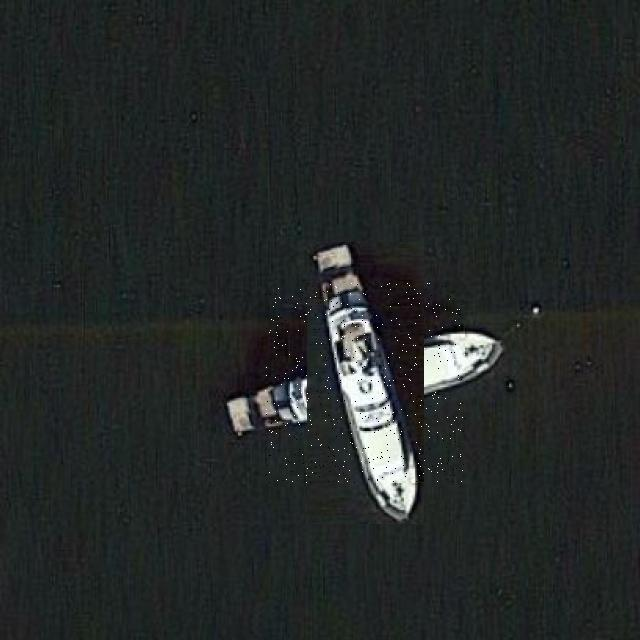boat: (265, 283, 465, 483)
